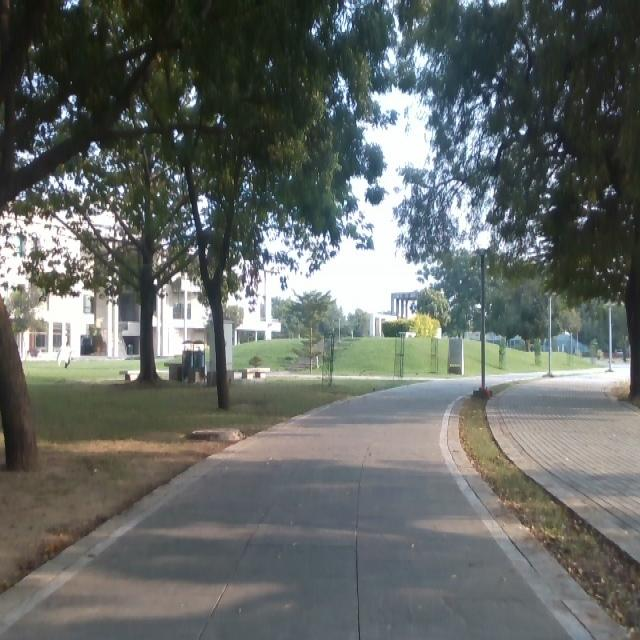lane: (0, 376, 573, 640)
